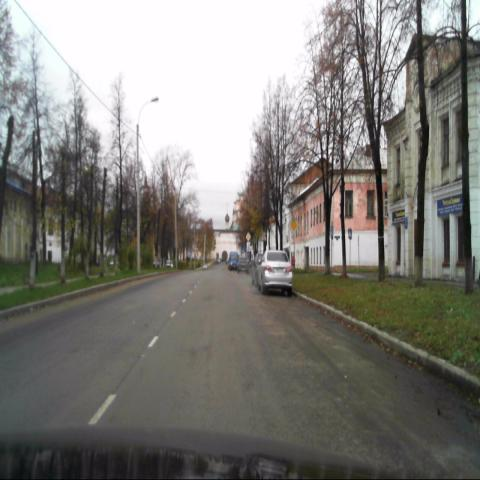2_1: (288, 216, 299, 234)
